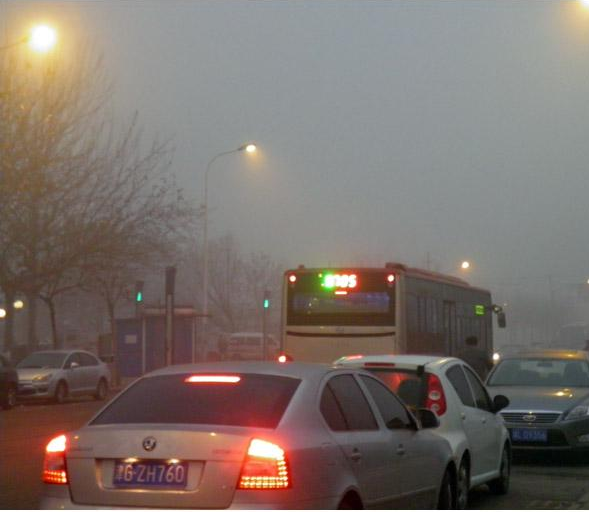bus: (278, 259, 508, 413)
car: (37, 357, 461, 511), (325, 354, 514, 507), (468, 350, 587, 464), (9, 349, 111, 405), (221, 331, 283, 365)
